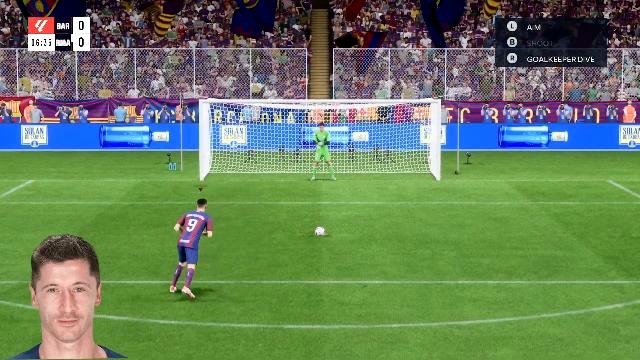bottom-left: (204, 148, 280, 180)
bottom-right: (358, 148, 434, 180)
center-down: (284, 148, 356, 180)
center-up: (285, 104, 351, 146)
football: (314, 228, 326, 236)
goalkeeper: (298, 124, 348, 182)
player: (172, 195, 244, 299)
top-left: (206, 105, 282, 145)
top-right: (354, 104, 436, 146)
